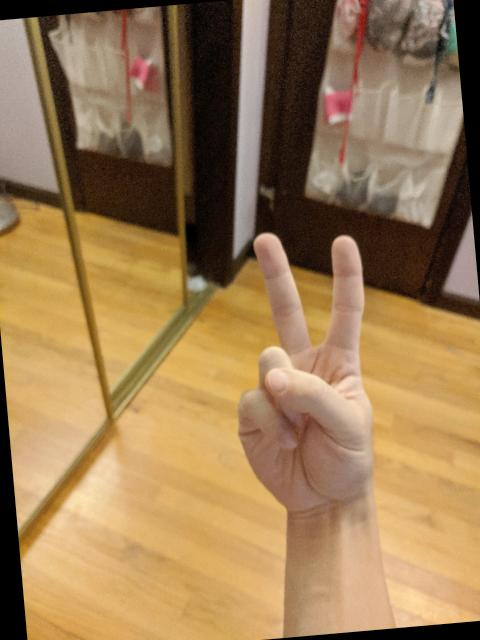V: (216, 219, 388, 526)
